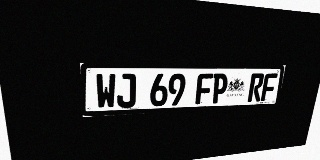6: (150, 73, 169, 107)
9: (168, 73, 186, 106)
F: (195, 73, 213, 104), (261, 73, 278, 101)
J: (117, 74, 136, 108)
P: (211, 73, 229, 104)
R: (247, 73, 265, 102)
W: (95, 74, 116, 109)
